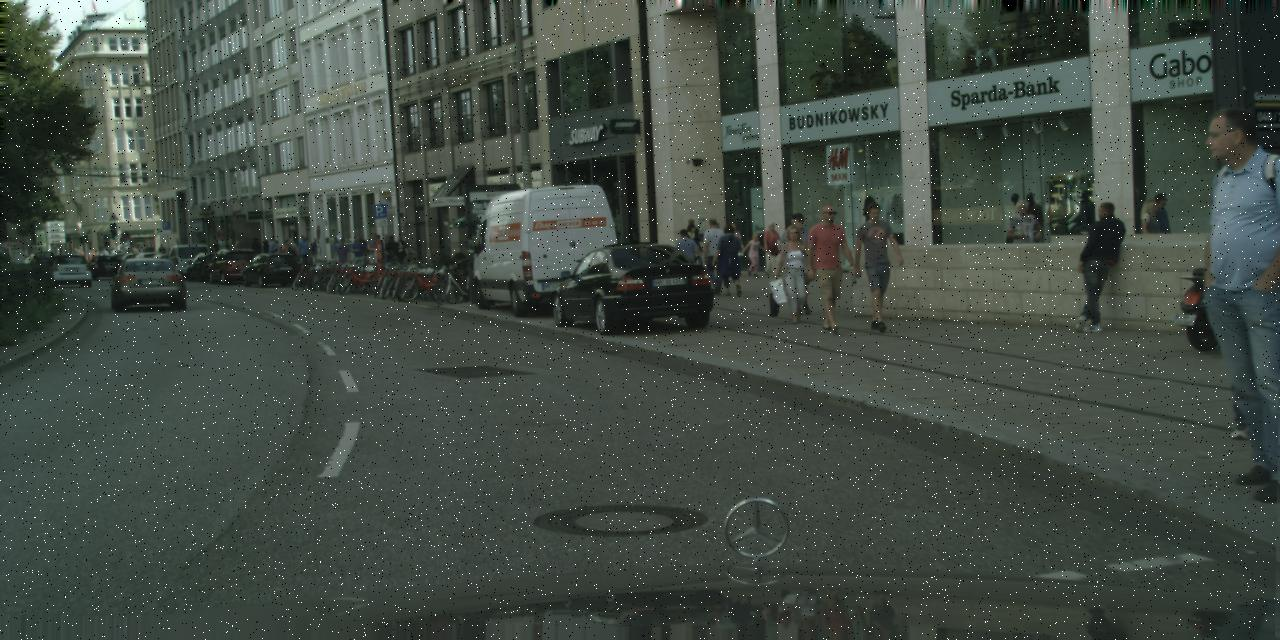ped: (1174, 108, 1278, 486), (1198, 175, 1279, 438), (1071, 201, 1124, 331), (850, 202, 902, 330), (804, 205, 856, 332), (780, 212, 820, 314), (776, 224, 815, 320), (1008, 200, 1040, 281), (699, 218, 730, 294), (1147, 192, 1177, 268), (716, 222, 746, 297), (1136, 199, 1164, 269), (674, 228, 698, 286), (86, 243, 156, 260), (722, 222, 744, 274), (760, 222, 781, 275), (682, 218, 701, 266), (681, 223, 700, 268), (349, 234, 366, 277), (745, 233, 762, 276), (364, 232, 380, 274), (334, 237, 350, 277), (369, 234, 385, 274), (383, 234, 399, 274), (378, 236, 394, 274), (297, 235, 310, 268), (300, 237, 312, 267), (308, 237, 320, 267), (266, 237, 278, 265), (283, 238, 298, 260), (250, 237, 261, 266), (260, 240, 271, 266), (271, 239, 281, 264), (212, 238, 220, 259), (198, 238, 206, 258), (158, 243, 165, 262), (74, 248, 84, 254)
